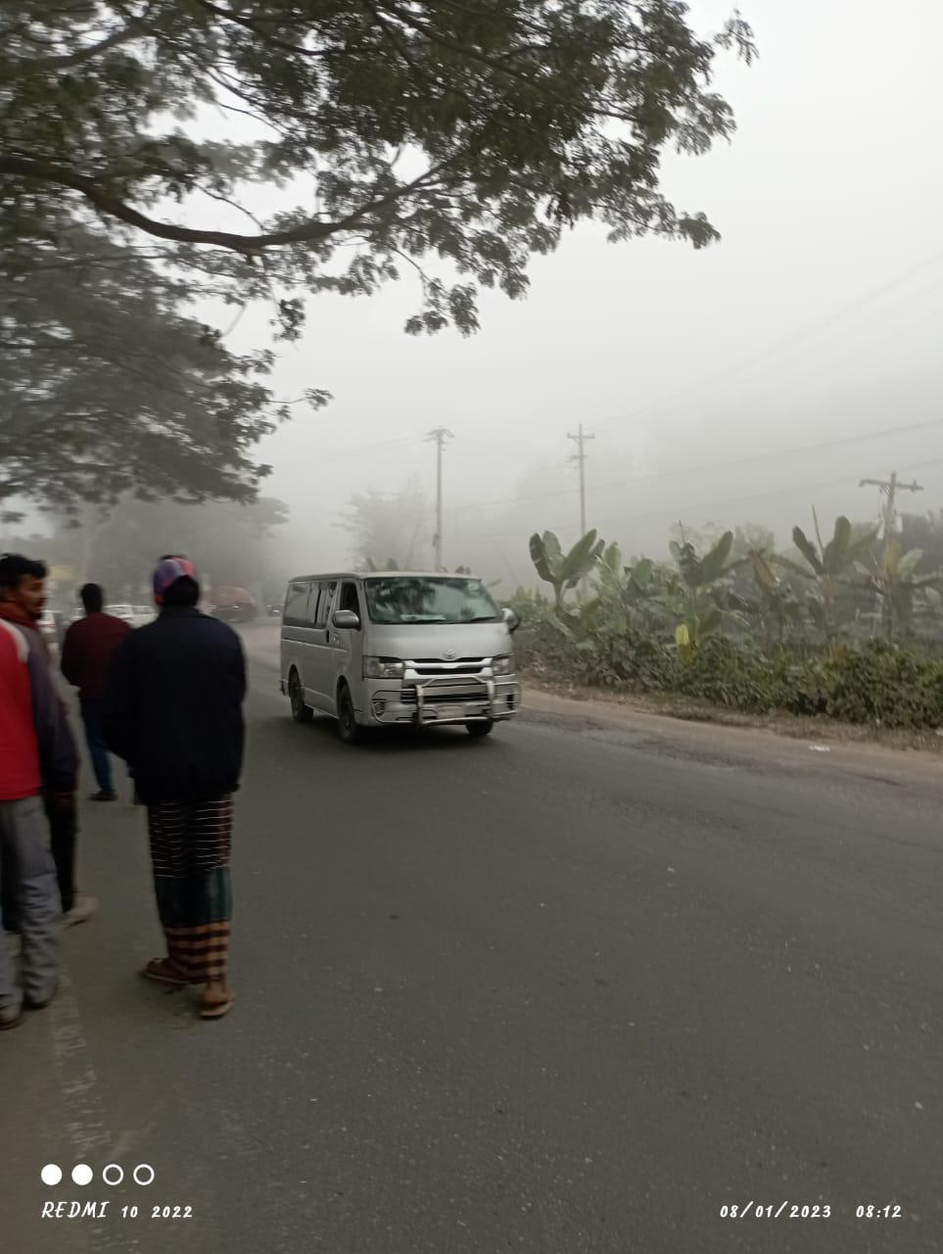Car: (266, 550, 541, 752)
